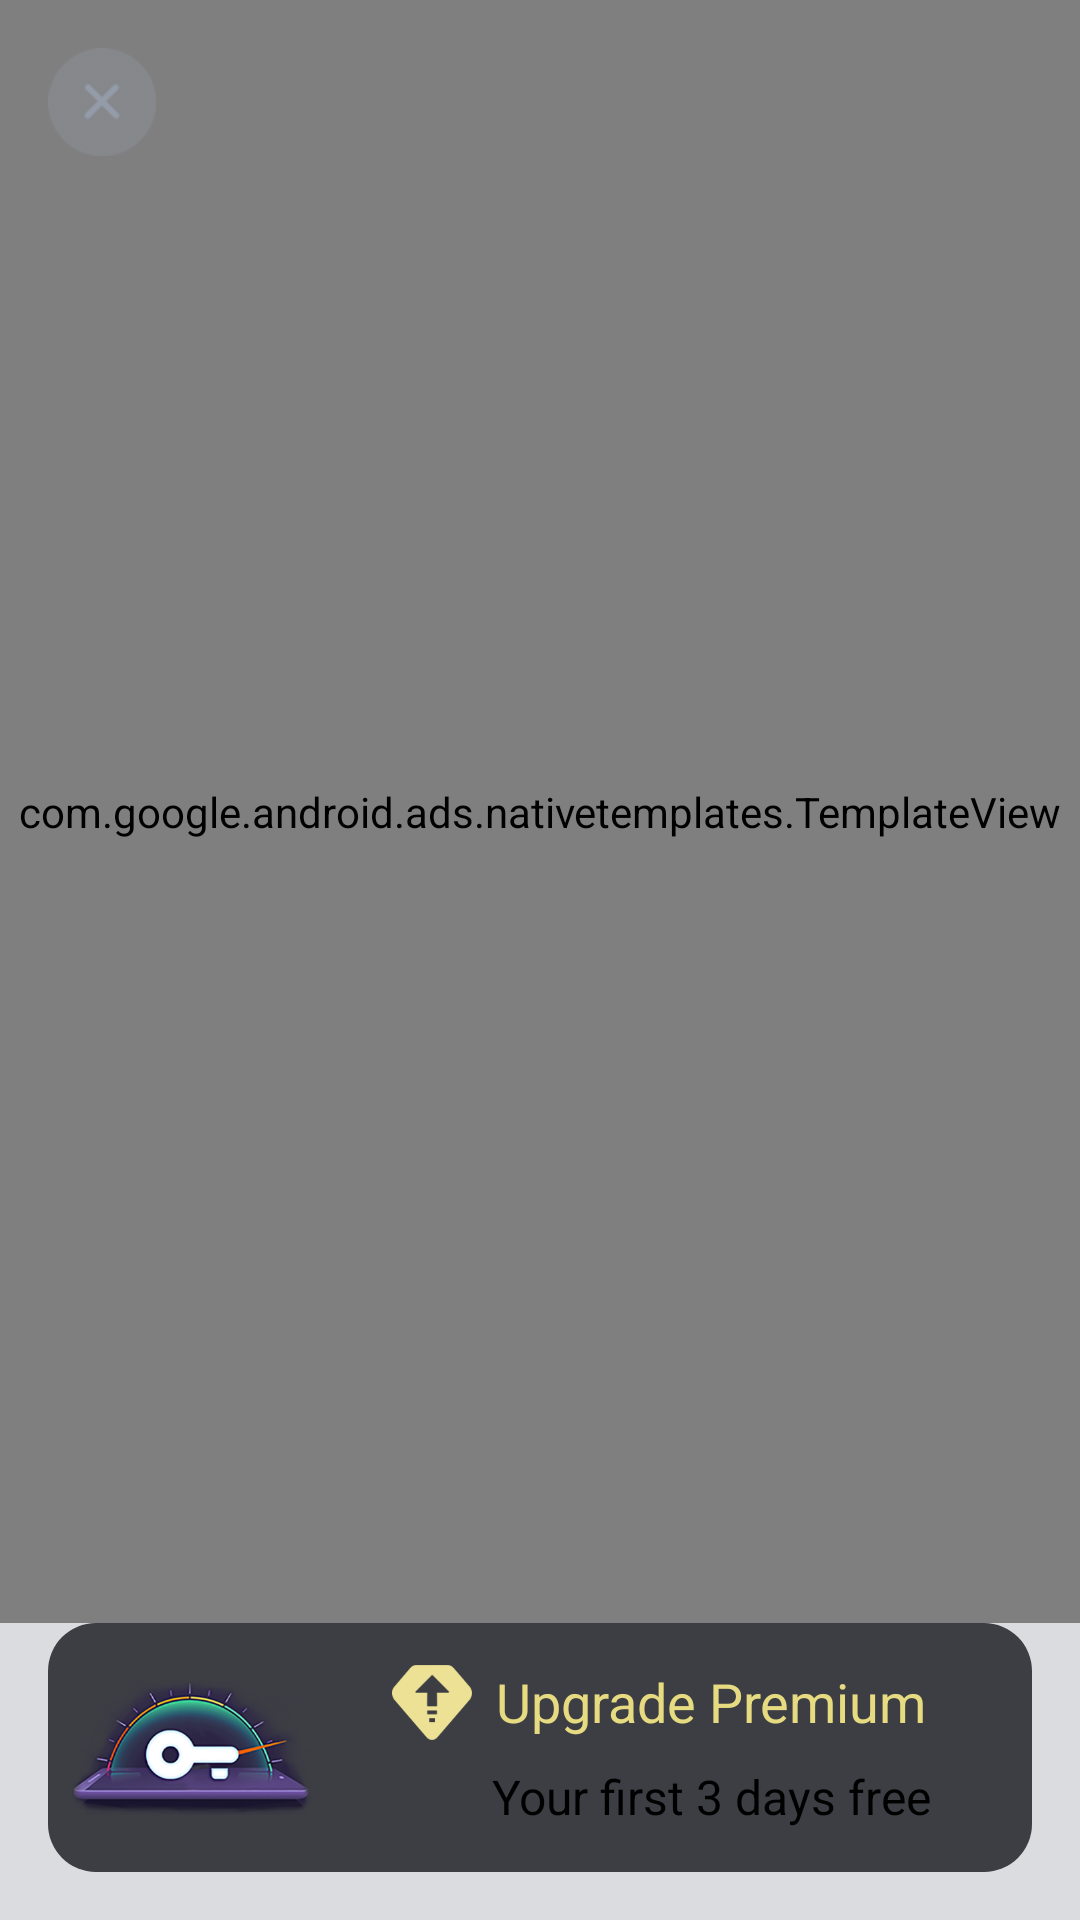

Screen size 1080w x 1920h. Icon name, then its center in pixels as (x,y):
ad close: (102,102)
ad iap upgrade: (432,1702)
